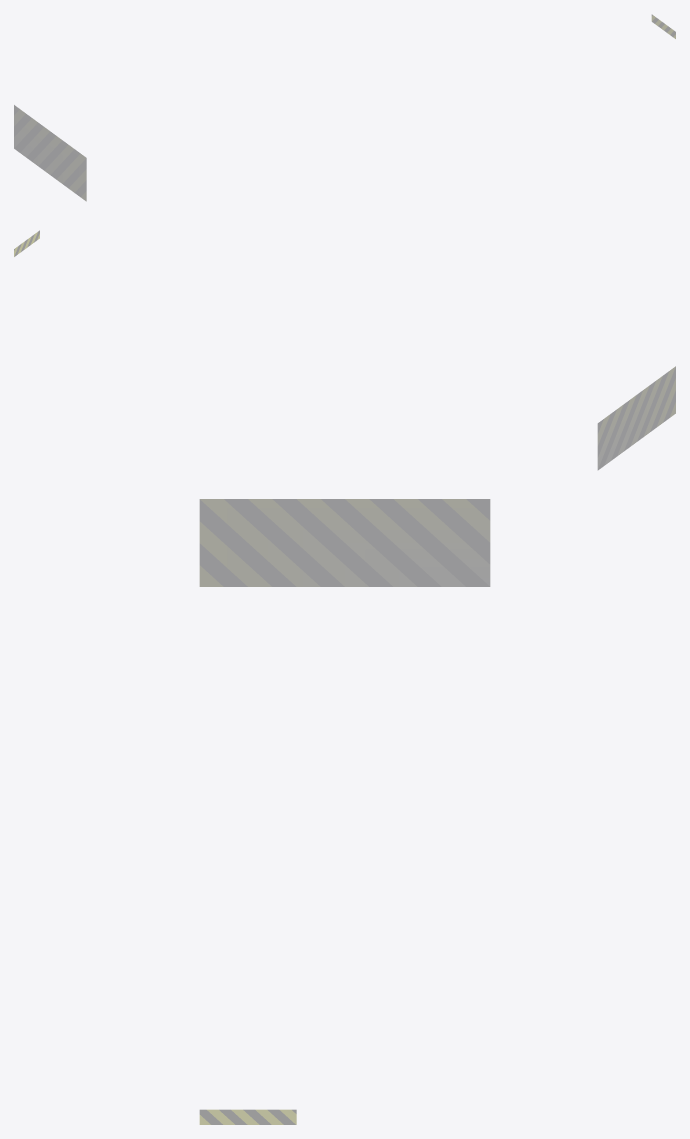
Rendered from Aztec_Alpha_114.glb.
3 views of the same model, one above another, from view 1: azimuth 30°, elevation 25°; view 2: azimuth 150°, elevation 25°; view 3: azimuth 270°, elevation 25° (orthographic). The views are drawn at different scales.
Visible parts, largest first — view 1: Aztec_Alpha_114; view 2: Aztec_Alpha_114; view 3: Aztec_Alpha_114.
Boxes of the visible parts, left/top/right/bottom form: Aztec_Alpha_114: left=14, top=15, right=675, bottom=200; Aztec_Alpha_114: left=14, top=230, right=675, bottom=469; Aztec_Alpha_114: left=200, top=499, right=489, bottom=1124.
Bounding box in the file's own units: 91.25 × 6.5 × 19.5.
1 material, 1 textured.
